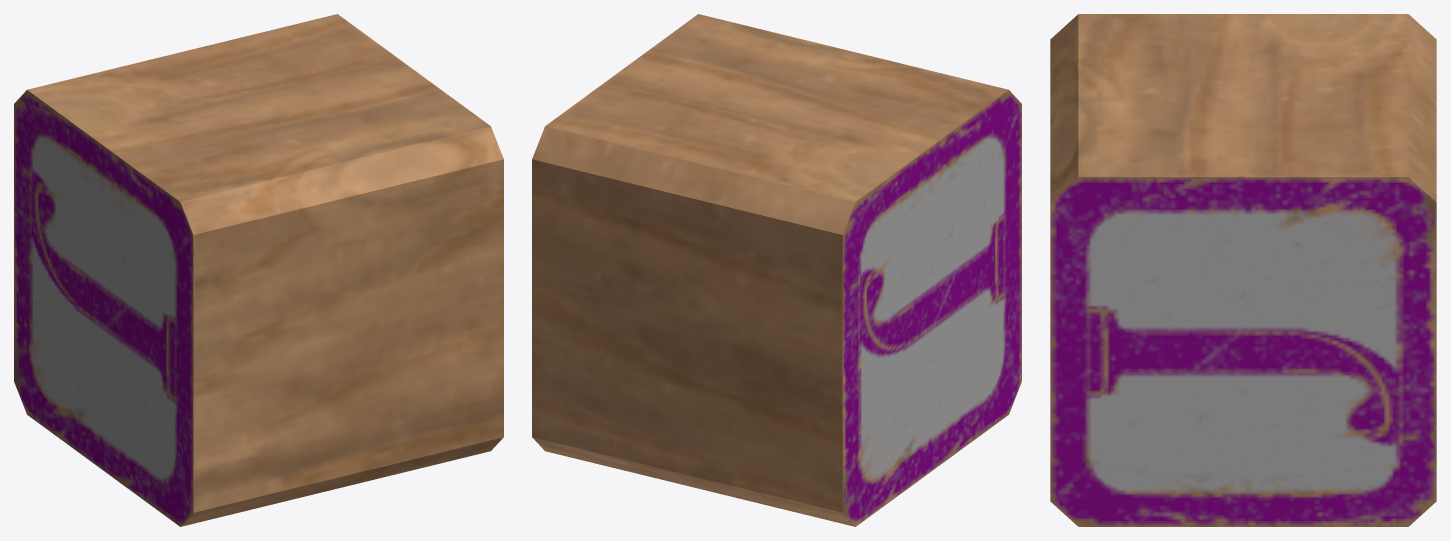
File: block_J.obj
The picture shows the model from 3 angles, left to right: view 1: azimuth 30°, elevation 25°; view 2: azimuth 150°, elevation 25°; view 3: azimuth 270°, elevation 25°; orthographic projection. The views are drawn at different scales.
Bounding box in the file's own units: 0.2 × 0.2 × 0.2.
Materials: 1 (1 with a texture image).
